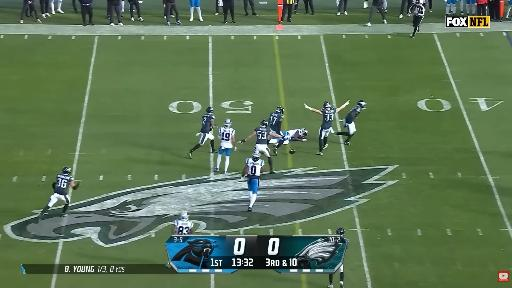Helmet: (357, 99, 366, 110), (252, 152, 260, 161), (276, 106, 284, 114), (336, 228, 345, 235), (181, 212, 188, 221), (62, 167, 71, 174), (300, 128, 307, 137), (206, 107, 214, 114), (260, 120, 268, 127), (323, 102, 331, 108), (225, 119, 231, 126)
Jersey: (54, 174, 73, 195), (246, 158, 264, 178), (219, 127, 234, 148), (321, 108, 335, 129), (269, 112, 283, 133), (175, 219, 193, 234), (255, 127, 270, 144), (201, 114, 214, 133), (345, 108, 360, 123), (286, 130, 301, 140)
Player: (304, 101, 349, 155), (238, 120, 282, 172), (39, 167, 79, 220), (189, 107, 217, 158), (336, 100, 366, 145), (242, 152, 264, 211), (214, 119, 235, 173), (173, 212, 193, 234), (282, 128, 307, 144), (269, 106, 283, 134), (337, 228, 348, 249)
